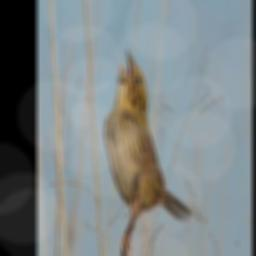Sparrow: (103, 48, 196, 256)
